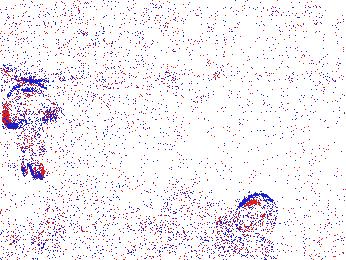flame jellyfish: (4, 82, 62, 180), (34, 200, 86, 257), (217, 192, 278, 238)
